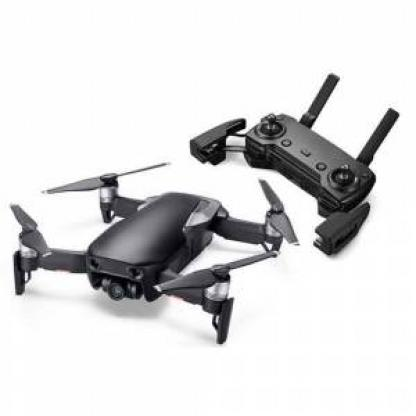drone: (10, 173, 305, 356)
